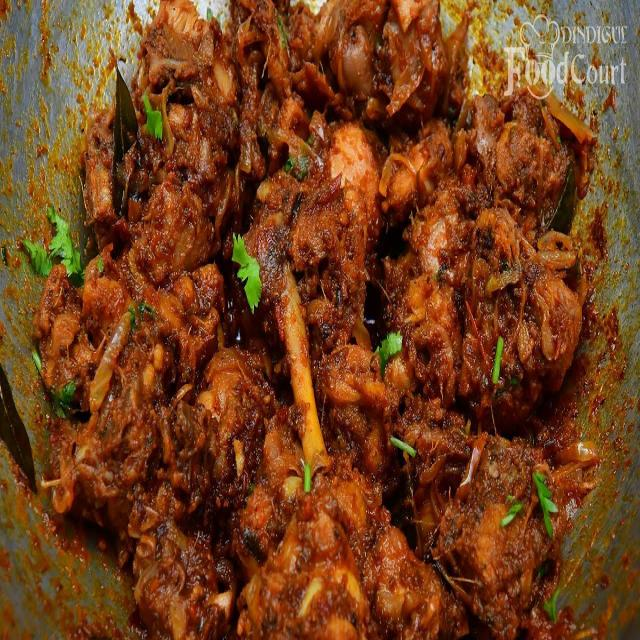chicken: (58, 2, 623, 640)
